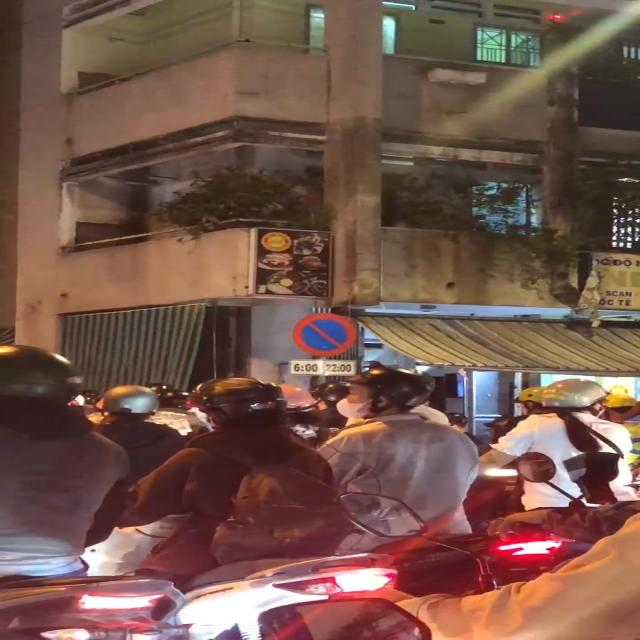Bien bao cam do xe: (288, 310, 364, 361)
